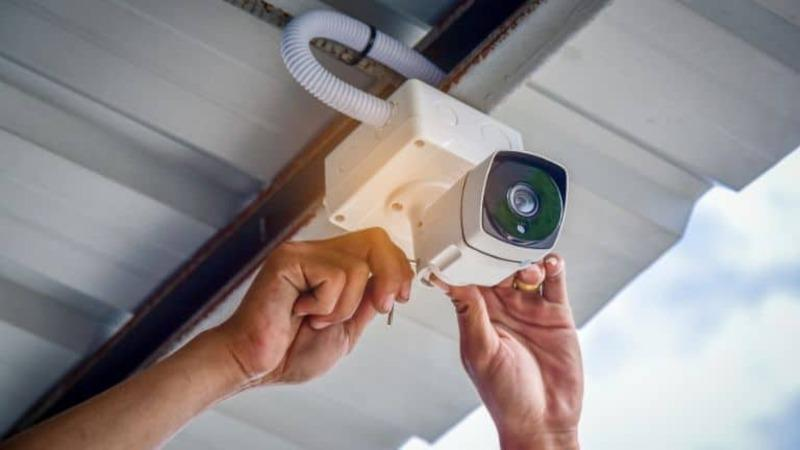bullet: (403, 162, 572, 276)
